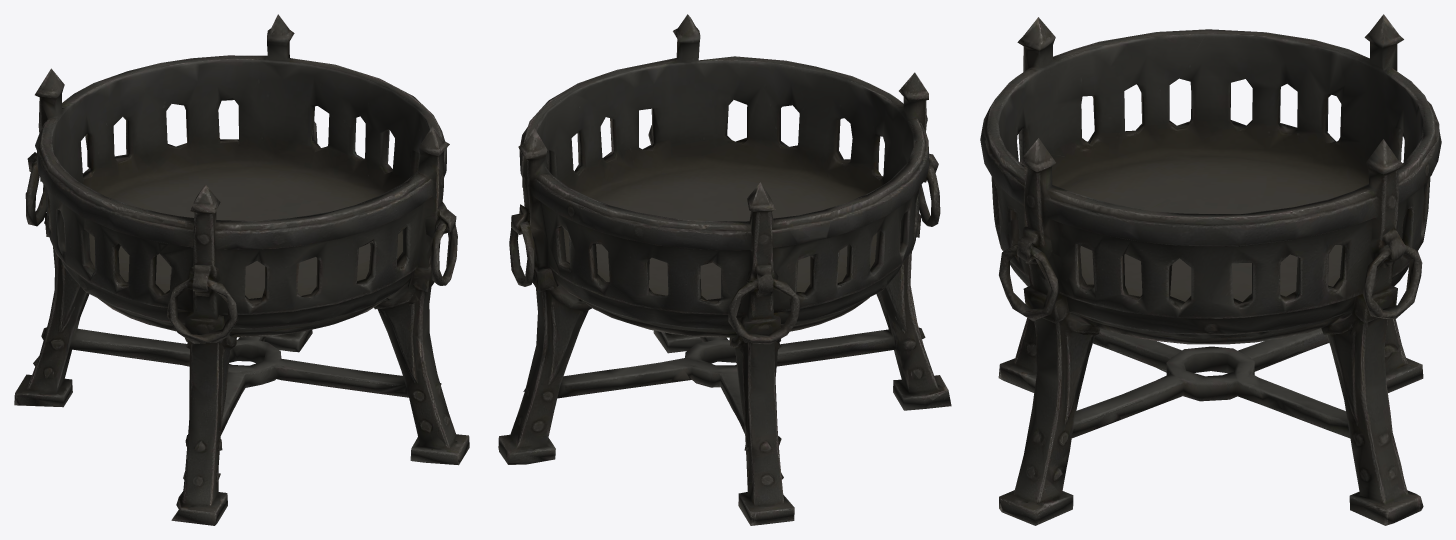
Rendered from floor-brazier.glb.
3 views of the same model, side by side, from view 1: azimuth 30°, elevation 25°; view 2: azimuth 150°, elevation 25°; view 3: azimuth 270°, elevation 25° (orthographic). The views are drawn at different scales.
Parts seen in each view (by area): view 1: tripo_node_84ddca58-9cd5-486b-8b83-7e4209126bbf; view 2: tripo_node_84ddca58-9cd5-486b-8b83-7e4209126bbf; view 3: tripo_node_84ddca58-9cd5-486b-8b83-7e4209126bbf.
Part boxes in pixels (x1,y1,x2,y2): tripo_node_84ddca58-9cd5-486b-8b83-7e4209126bbf: [14, 14, 469, 525]; tripo_node_84ddca58-9cd5-486b-8b83-7e4209126bbf: [498, 14, 951, 525]; tripo_node_84ddca58-9cd5-486b-8b83-7e4209126bbf: [980, 14, 1441, 525].
Bounding box in the file's own units: 0.9947 × 0.8827 × 1.
1 material, 1 textured.
